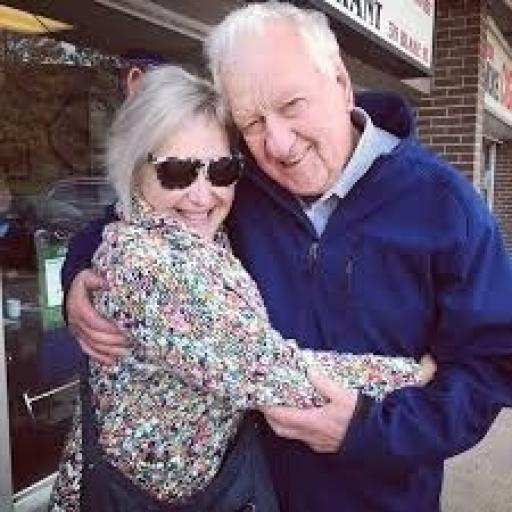hugging: (59, 0, 510, 510)
